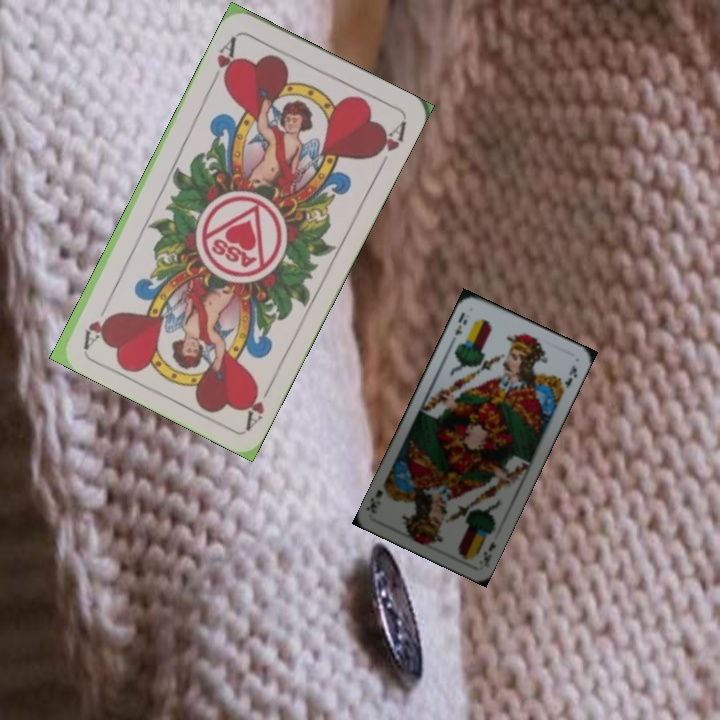EK: (479, 536, 499, 570), (451, 308, 470, 338)
HA: (239, 376, 277, 431), (212, 32, 240, 86)
